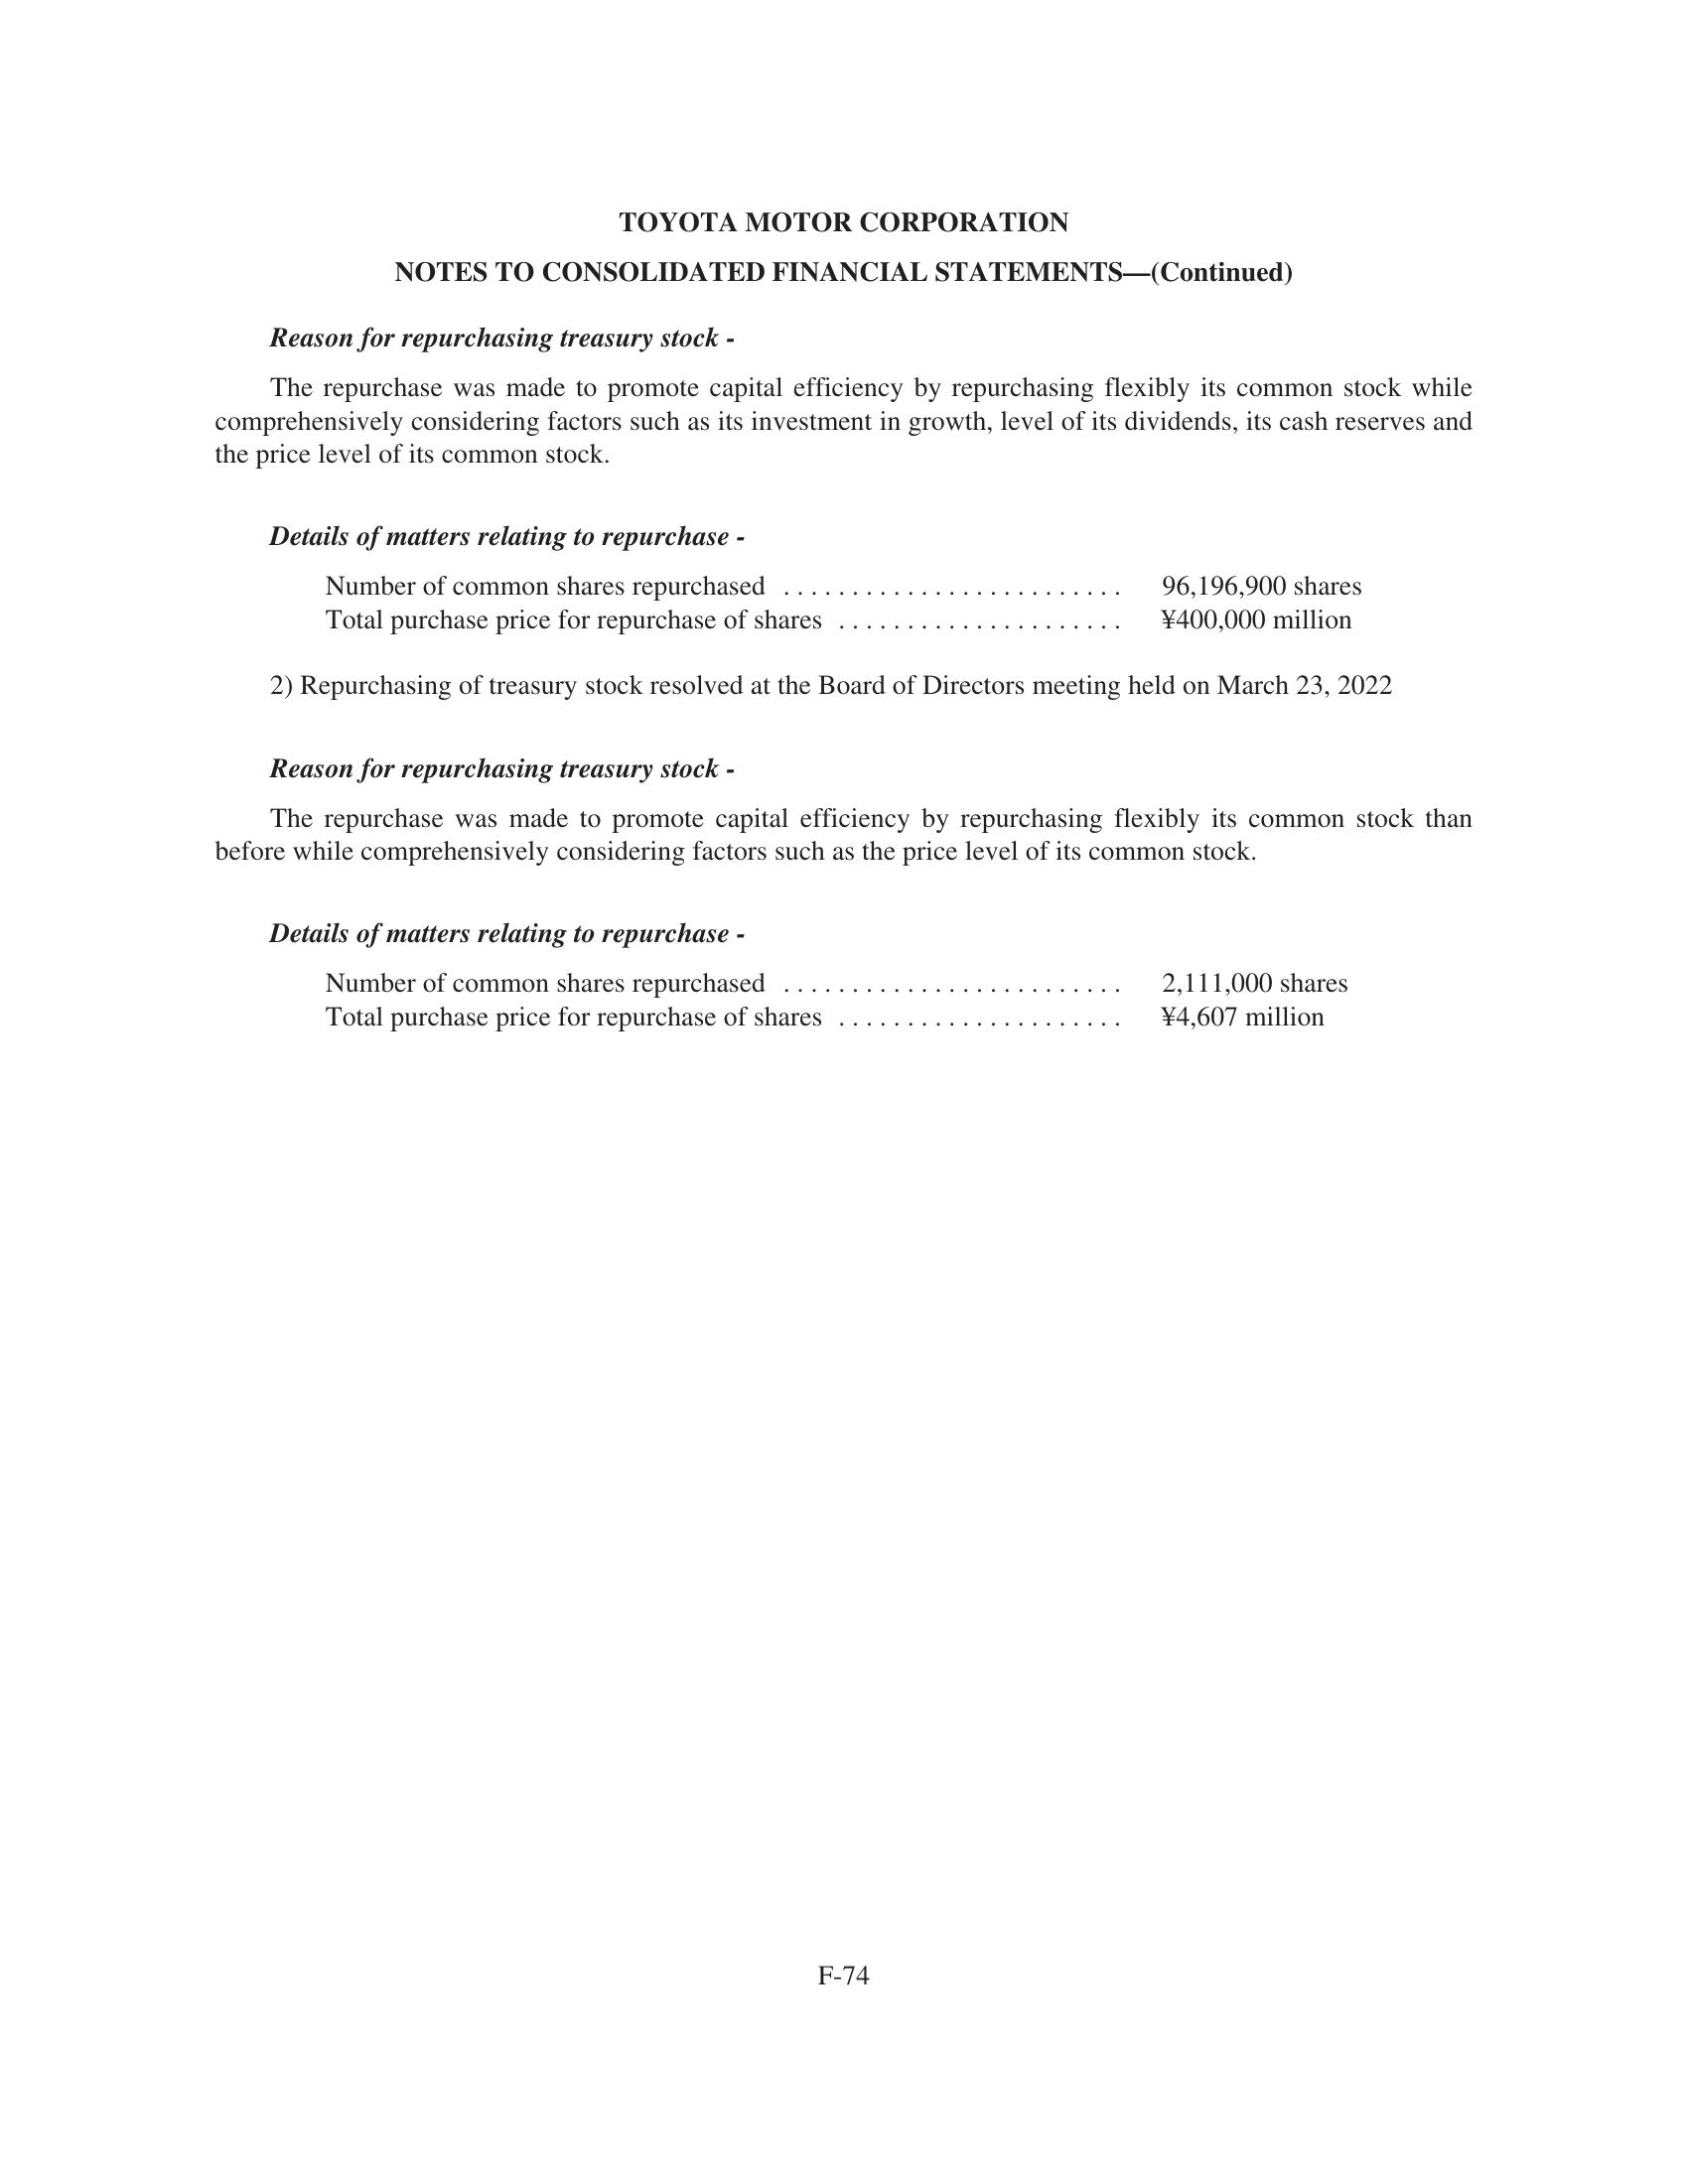Footer: (0, 1946, 1688, 2184)
Header: (0, 0, 1688, 175)
